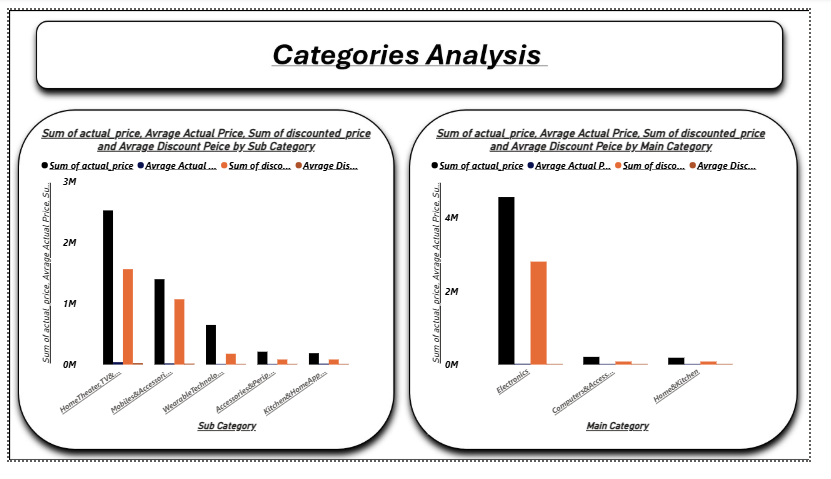

The dashboard page shown, as its layout file describes it:
{"tool":"powerbi","page":{"name":"Categories Analysis ","canvas":[1280,720],"ordinal":1},"visuals":[{"type":"image","box":[0,0,1280.3,720.4],"z":0},{"type":"clusteredColumnChart","fields":{"Category":["amazon.Sub Category"],"Y":["Sum(amazon.actual_price)","amazon.Avrage Actual Price","Sum(amazon.discounted_price)","amazon.Avrage Discount Peice"]},"box":[46.7,185.2,537.9,492.6],"z":1000},{"type":"clusteredColumnChart","fields":{"Y":["Sum(amazon.actual_price)","amazon.Avrage Actual Price","Sum(amazon.discounted_price)","amazon.Avrage Discount Peice"],"Category":["amazon.Main Category"]},"box":[669.6,185.2,553,492.6],"z":2000}]}

Visuals, with their boxes in screenshot pixels (x1, y1, x2, y2), scaled from the page's 1280x720 canvas onto the 831x479 screenshot:
image: BBox(0, 0, 830, 478)
clusteredColumnChart - amazon.Sub Category x Sum(amazon.actual_price): BBox(30, 123, 380, 451)
clusteredColumnChart - Sum(amazon.actual_price) x amazon.Avrage Actual Price: BBox(435, 123, 794, 451)
